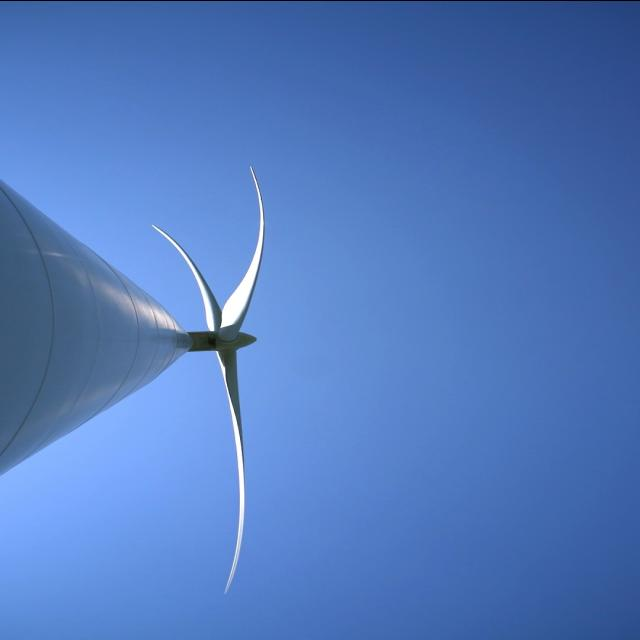blade 1: (228, 123, 280, 309)
blade 2: (146, 226, 204, 286)
blade 3: (213, 362, 286, 612)
